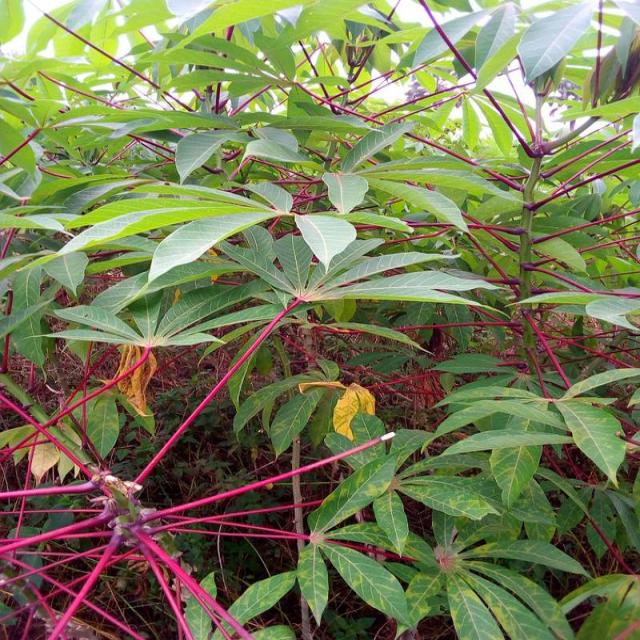cassava leaf: (0, 0, 638, 638), (294, 211, 356, 273)
